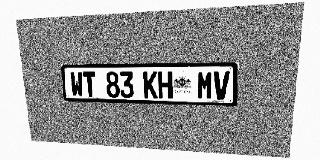3: (119, 71, 134, 98)
8: (106, 71, 120, 98)
H: (158, 71, 172, 99)
K: (143, 71, 158, 98)
M: (197, 71, 213, 99)
T: (82, 72, 97, 97)
V: (213, 71, 230, 100)
W: (70, 72, 84, 97)
